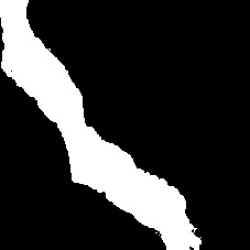crack: (1, 1, 200, 247)
